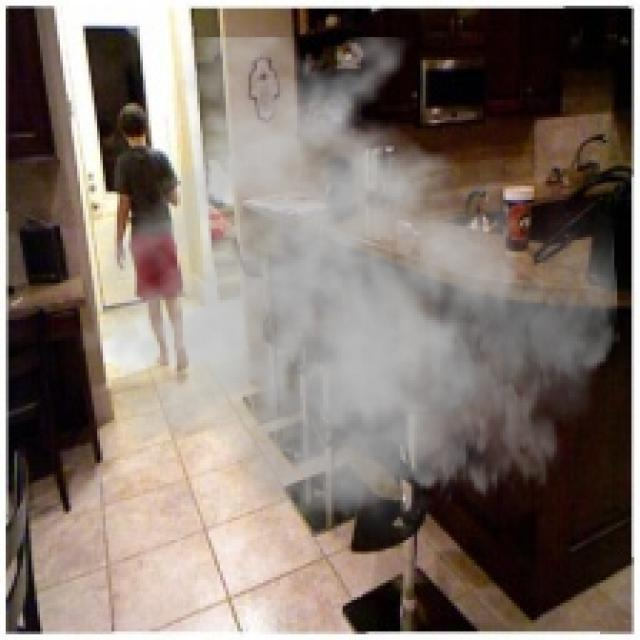smoke: (74, 37, 620, 566)
